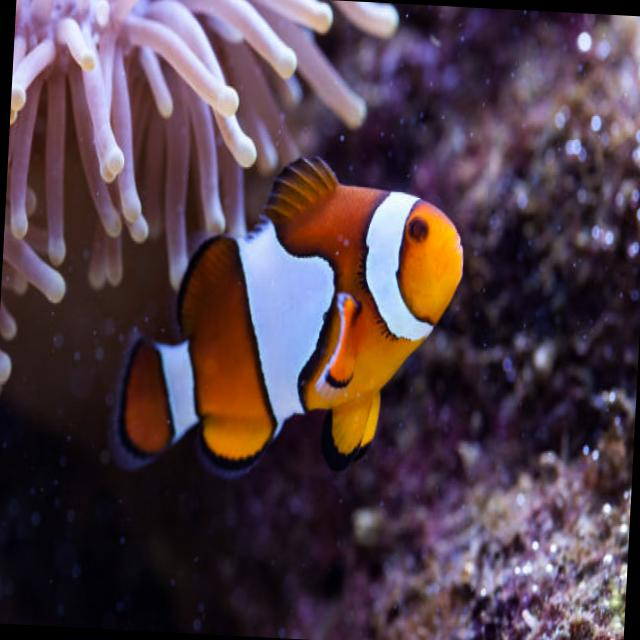ClownFish: (120, 145, 470, 484)
